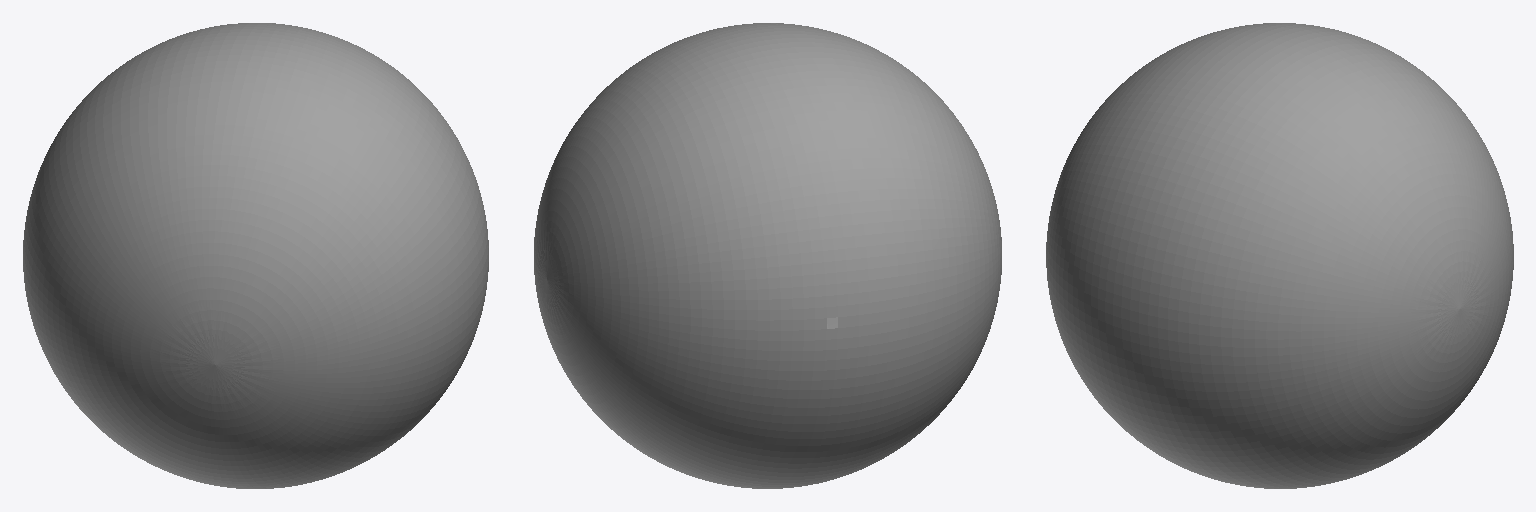
File: jupiter.obj
3 views of the same model, side by side, from view 1: azimuth 30°, elevation 25°; view 2: azimuth 150°, elevation 25°; view 3: azimuth 270°, elevation 25° (orthographic).
Visible parts, largest first — view 1: Sphere; view 2: Sphere; view 3: Sphere.
Part boxes in pixels (left/top/right/bottom): Sphere: left=23, top=23, right=488, bottom=488; Sphere: left=534, top=23, right=1001, bottom=488; Sphere: left=1046, top=23, right=1513, bottom=488.
Size of the model in its own units: 12.61 by 12.58 by 12.62.